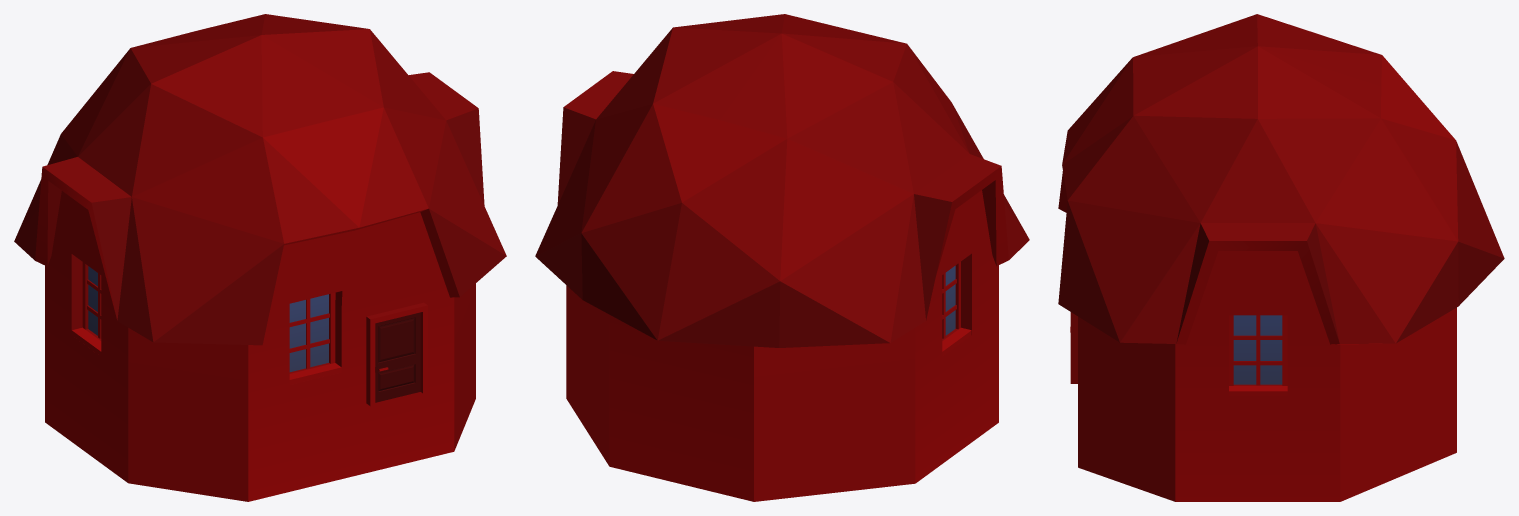
The model's file is buildings-residential-geodesichome_v2.fbx.
3 views of the same model, side by side, from view 1: azimuth 30°, elevation 25°; view 2: azimuth 150°, elevation 25°; view 3: azimuth 270°, elevation 25° (orthographic).
Parts seen in each view (by area): view 1: GeodesicHome_v2_base, GeodesicHome_v2_windowRefl; view 2: GeodesicHome_v2_base, GeodesicHome_v2_windowRefl; view 3: GeodesicHome_v2_base, GeodesicHome_v2_windowRefl.
Part boxes in pixels (box(x1,y1,x2,y2)): GeodesicHome_v2_base: box(14, 14, 506, 501); GeodesicHome_v2_windowRefl: box(88, 266, 328, 371); GeodesicHome_v2_base: box(535, 14, 1029, 501); GeodesicHome_v2_windowRefl: box(945, 265, 955, 335); GeodesicHome_v2_base: box(1058, 14, 1504, 501); GeodesicHome_v2_windowRefl: box(1233, 315, 1282, 384).
Size of the model in its own units: 11.34 by 10.5 by 11.41.
